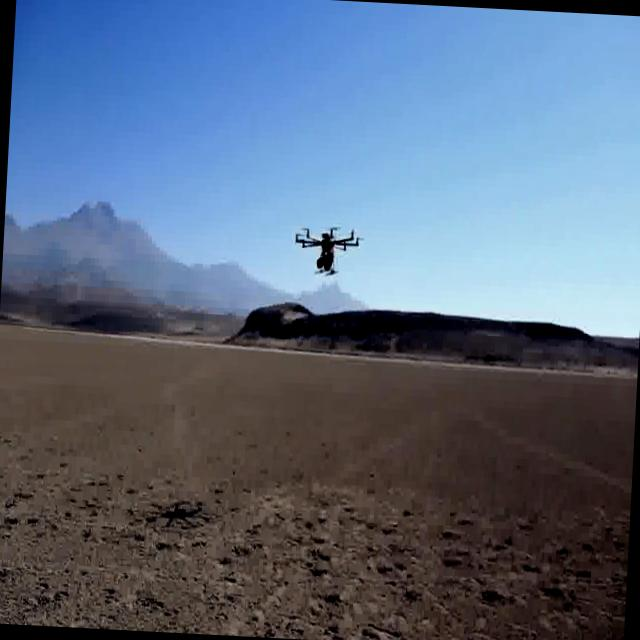drone: (287, 218, 364, 284)
